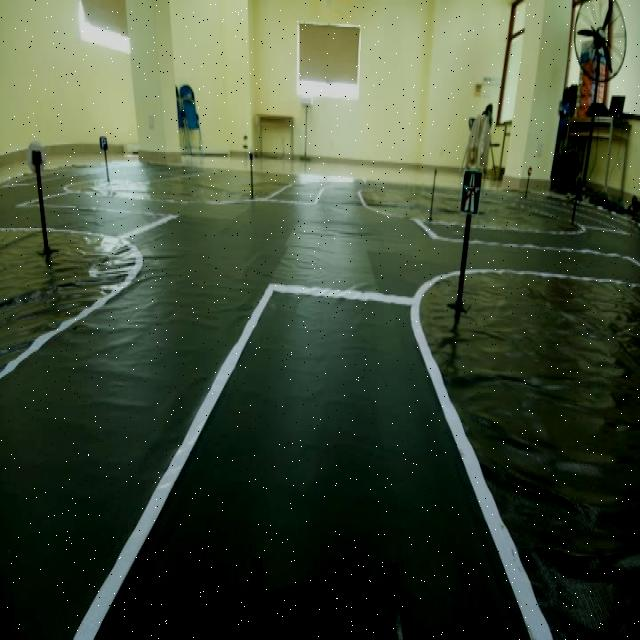highway_exit: (457, 165, 486, 220)
